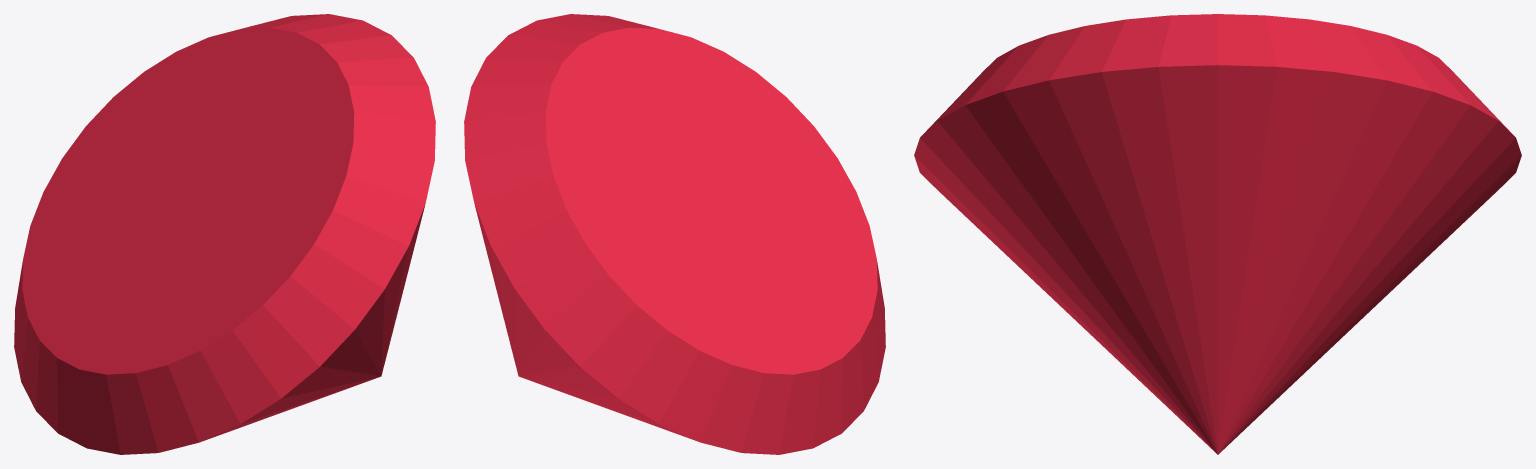
Rendered from Ruby.fbx.
3 views of the same model, side by side, from view 1: azimuth 30°, elevation 25°; view 2: azimuth 150°, elevation 25°; view 3: azimuth 270°, elevation 25° (orthographic). The views are drawn at different scales.
Visible parts, largest first — view 1: Ruby.001; view 2: Ruby.001; view 3: Ruby.001.
Boxes of the visible parts, x1,y1,x2,y2 form: Ruby.001: (14, 14, 435, 454); Ruby.001: (464, 14, 885, 454); Ruby.001: (914, 14, 1521, 454).
Bounding box in the file's own units: 30.07 × 29.81 × 40.48.
